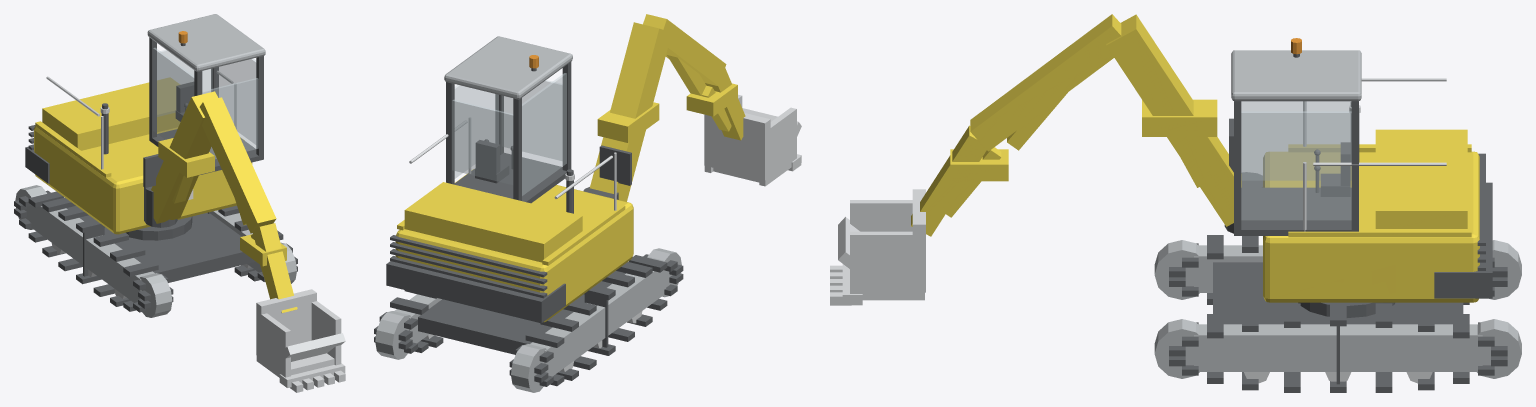
File: tracked-excavator.glb
The picture shows the model from 3 angles, left to right: view 1: azimuth 30°, elevation 25°; view 2: azimuth 150°, elevation 25°; view 3: azimuth 270°, elevation 25°; orthographic projection. The views are drawn at different scales.
Visible parts, largest first — view 1: demolition-and-site-clearance-tracked-excavator, boom, bucket; view 2: demolition-and-site-clearance-tracked-excavator, boom, bucket; view 3: demolition-and-site-clearance-tracked-excavator, boom, bucket.
Part boxes in pixels (x1,y1,x2,y2): demolition-and-site-clearance-tracked-excavator: (14,14,297,317); boom: (151,91,297,312); bucket: (256,289,345,392); demolition-and-site-clearance-tracked-excavator: (374,36,683,392); boom: (590,14,745,201); bucket: (704,94,801,186); demolition-and-site-clearance-tracked-excavator: (1154,38,1521,392); boom: (911,14,1241,236); bucket: (830,189,925,305).
Size of the model in its own units: 2.76 by 4.11 by 8.29.
